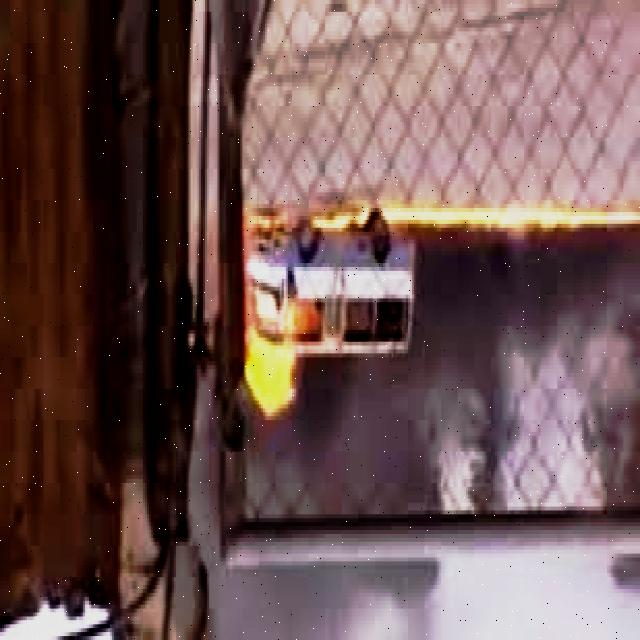api: (235, 229, 339, 421)
